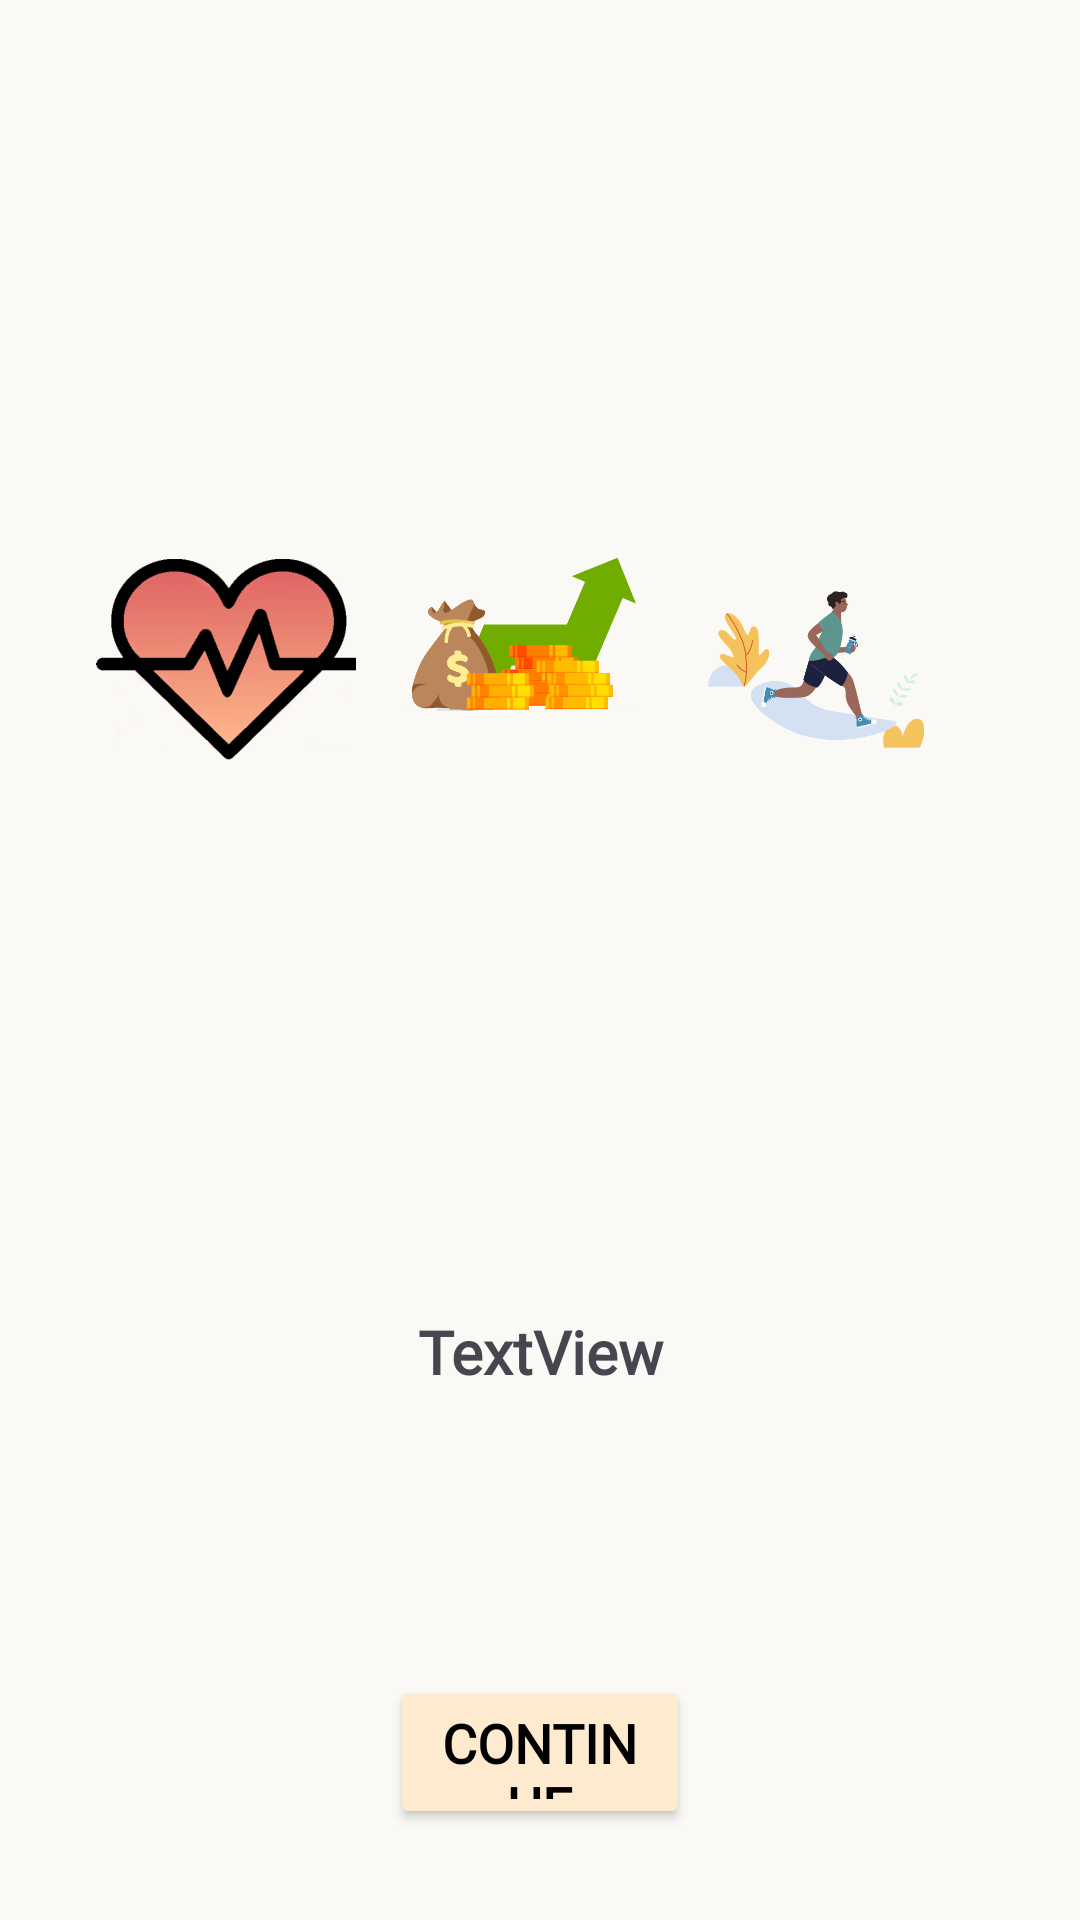

Named icons in this screenshot (1080 x 1920) and their centers, point (x, y):
exerciseimageintro: point (816, 669)
growthintro: point (524, 634)
healthimagecolored: point (226, 659)
